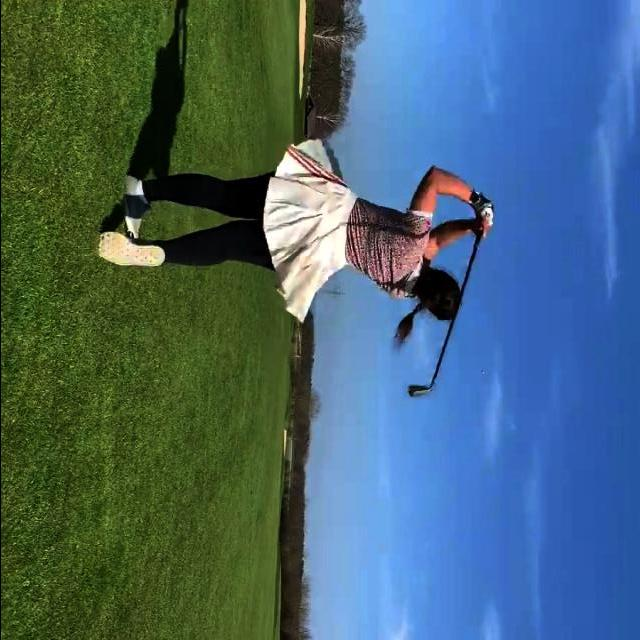golf club-handle: (407, 205, 493, 398)
golf club-head: (407, 384, 432, 397)
